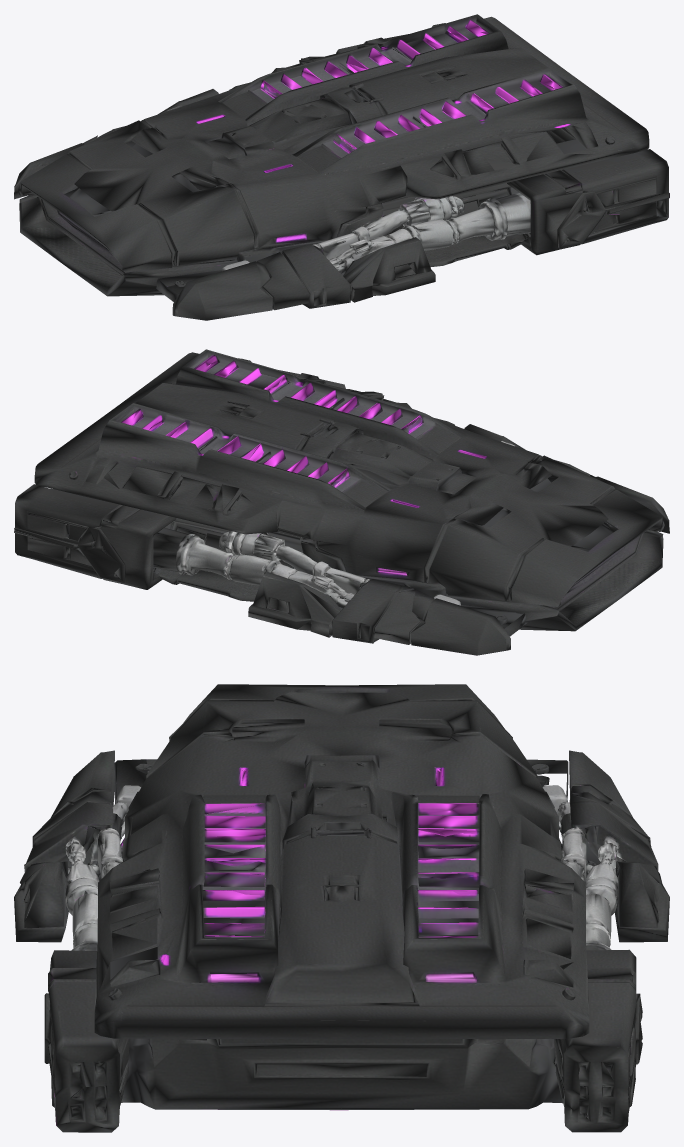
Rendered from gorge_tyrant_hull.glb.
3 views of the same model, one above another, from view 1: azimuth 30°, elevation 25°; view 2: azimuth 150°, elevation 25°; view 3: azimuth 270°, elevation 25° (orthographic). The views are drawn at different scales.
Parts seen in each view (by area): view 1: gorge_tyrant_hull; view 2: gorge_tyrant_hull; view 3: gorge_tyrant_hull.
Boxes of the visible parts, <box> form: gorge_tyrant_hull: <box>14,14,669,320</box>; gorge_tyrant_hull: <box>14,349,669,655</box>; gorge_tyrant_hull: <box>14,684,669,1132</box>.
Size of the model in its own units: 2.35 by 0.5031 by 1.81.
Materials: 1 (1 with a texture image).
